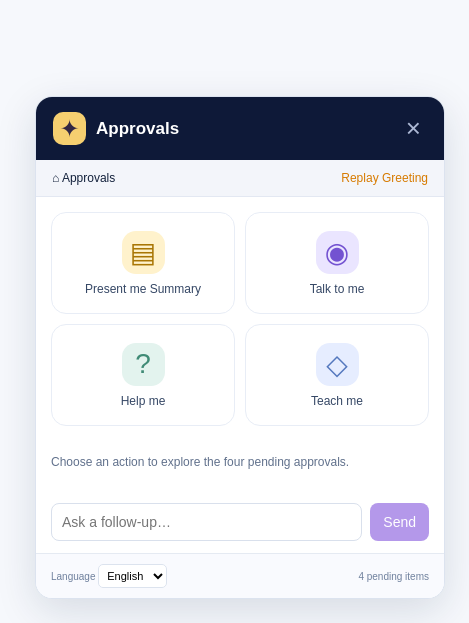
Test: fallback shows actionable provider diagnostic and replaces provisional text
Click the button "◉ Talk to me".
click(337, 263)  # box [245, 212, 429, 314]
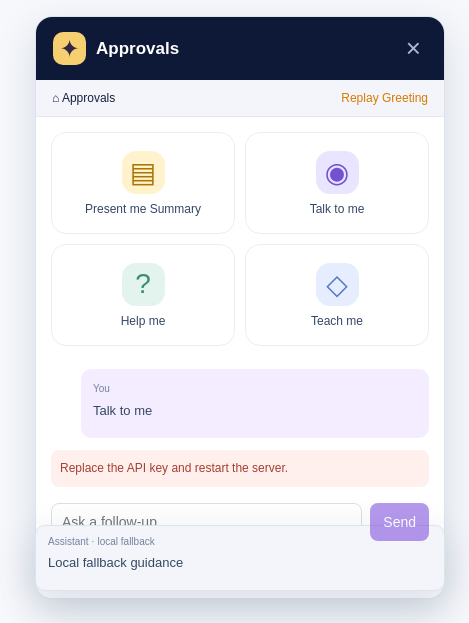
Expected: the message shows "Replace the API key", [60, 461, 288, 475]
Expected: the text "Local fallback guidance" is shown, [48, 555, 183, 570]
